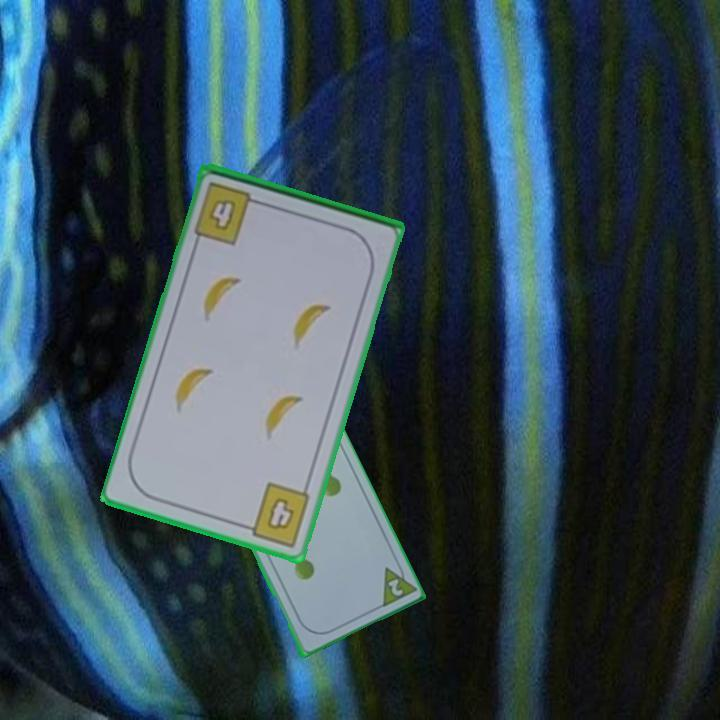2p: (384, 575, 406, 599)
4b: (238, 479, 313, 550), (190, 179, 267, 248)
